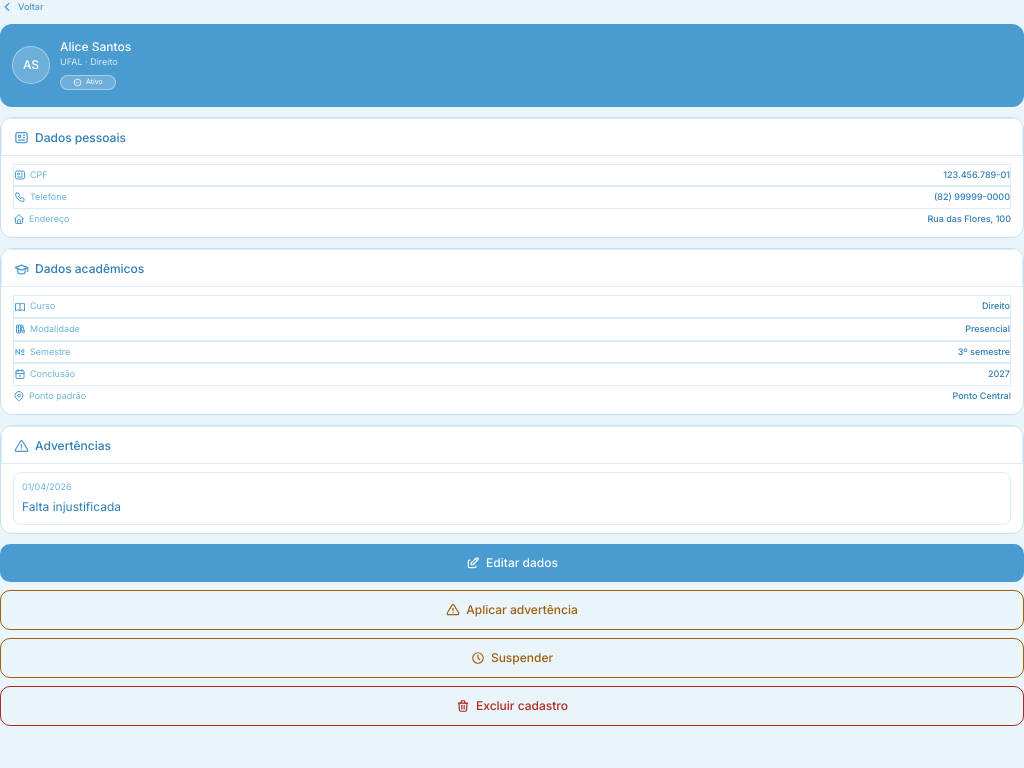
Scenario: DetalheAlunoPage — aplicar advertência › clicar em Aplicar advertência abre modal com textarea
Click the button "Aplicar advertência".
click(512, 610)  # box [0, 590, 1023, 630]
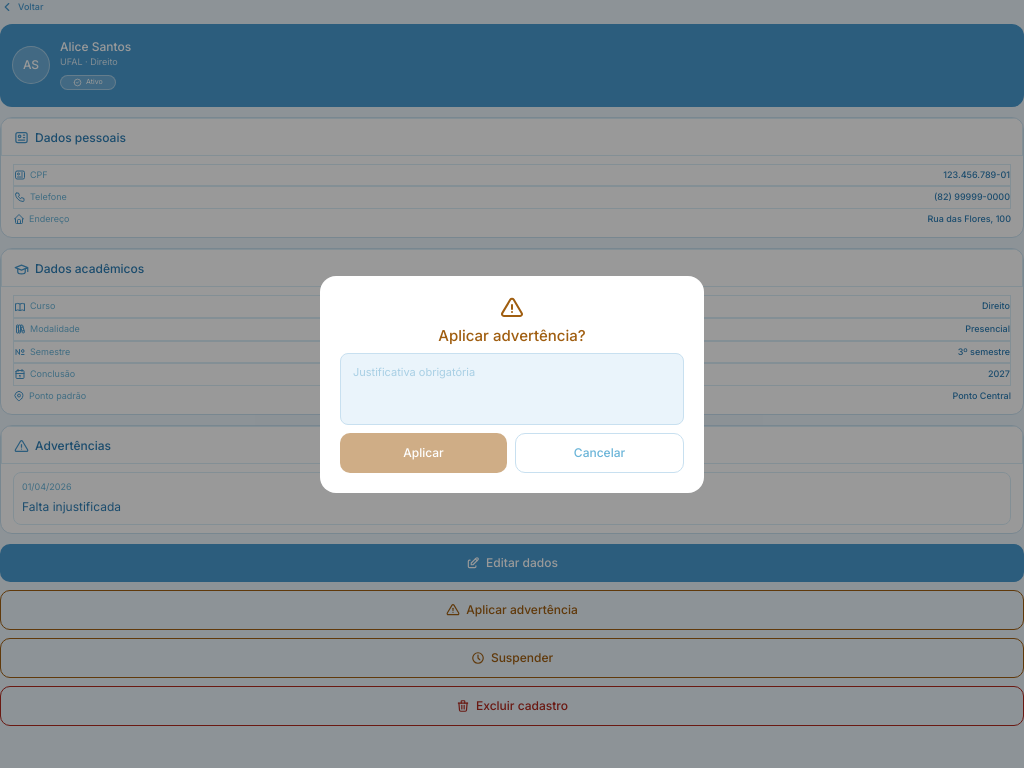
Expected: the dialog is shown, [320, 276, 704, 492]
Expected: the text box with placeholder "Justificativa obrigatória" is shown, [340, 353, 684, 424]
